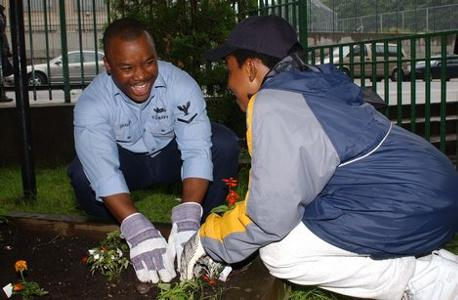person: (65, 21, 239, 286)
